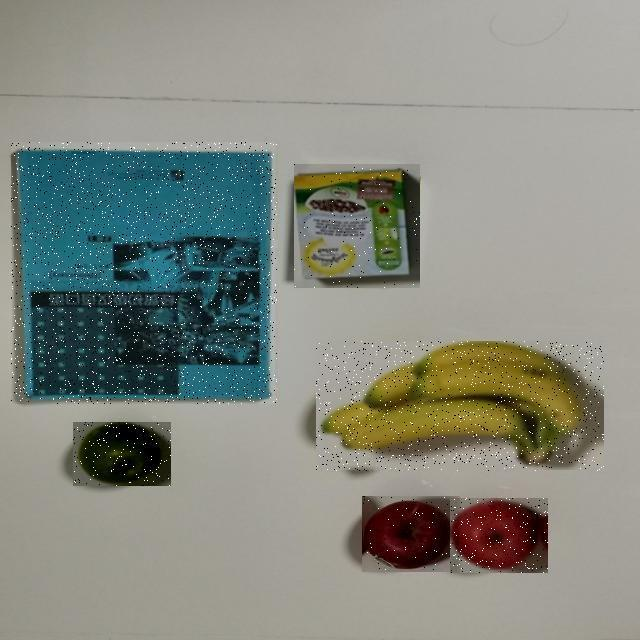Apple: (363, 496, 461, 572), (451, 498, 549, 573), (73, 422, 171, 486)
Banana: (317, 342, 605, 472)
Book: (12, 142, 278, 404)
Cereal: (295, 165, 421, 289)
